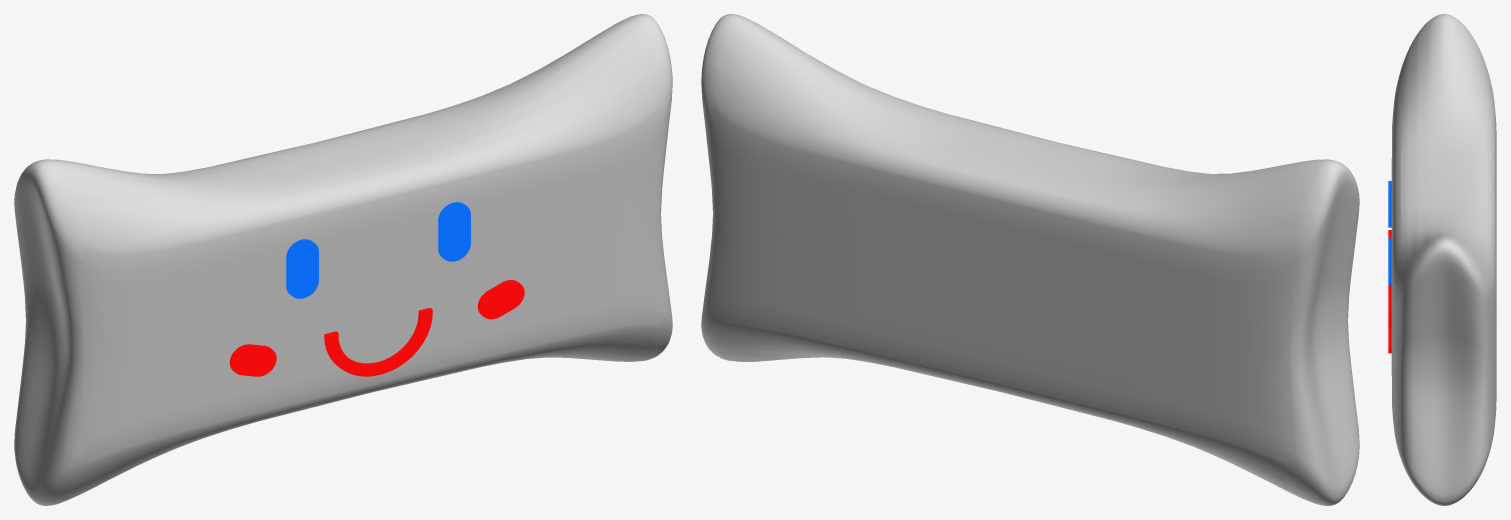
The picture shows the model from 3 angles, left to right: view 1: azimuth 30°, elevation 25°; view 2: azimuth 150°, elevation 25°; view 3: azimuth 270°, elevation 25°; orthographic projection. The views are drawn at different scales.
Parts seen in each view (by area): view 1: Body1, Body4, Body3, Body2.001, Body5, Body6; view 2: Body1; view 3: Body1, Body2.001, Body3, Body4.
Part boxes in pixels (x1,y1,x2,y2): Body1: [14, 14, 672, 505]; Body4: [324, 307, 432, 376]; Body3: [438, 202, 470, 261]; Body2.001: [286, 239, 318, 298]; Body5: [477, 280, 524, 319]; Body6: [229, 344, 276, 376]; Body1: [701, 14, 1359, 505]; Body1: [1391, 14, 1496, 505]; Body2.001: [1388, 181, 1391, 227]; Body3: [1388, 238, 1391, 284]; Body4: [1388, 285, 1391, 326].
Size of the model in its own units: 27.9 by 14.59 by 5.43.
